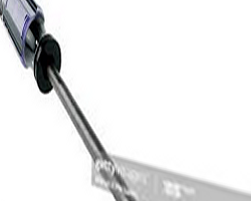Screwdriver: (1, 1, 133, 201)
